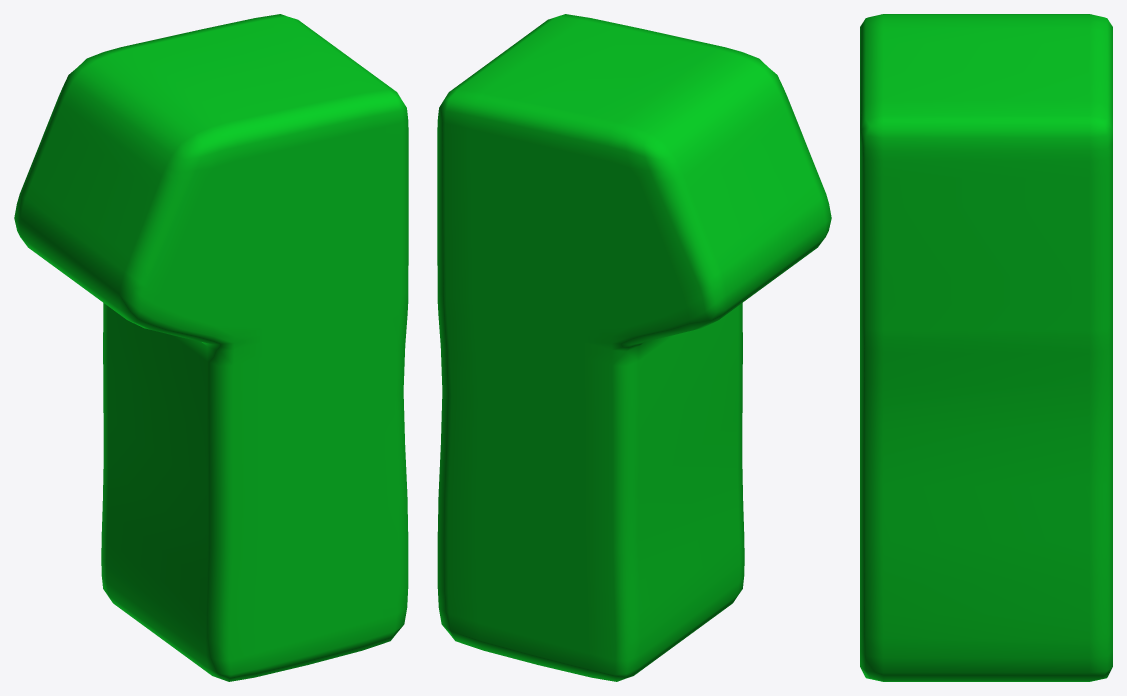
The picture shows the model from 3 angles, left to right: view 1: azimuth 30°, elevation 25°; view 2: azimuth 150°, elevation 25°; view 3: azimuth 270°, elevation 25°; orthographic projection. The views are drawn at different scales.
Visible parts, largest first — view 1: A:Mesh1_numbers_0; view 2: A:Mesh1_numbers_0; view 3: A:Mesh1_numbers_0.
Part boxes in pixels (x1,y1,x2,y2): A:Mesh1_numbers_0: [14, 14, 408, 681]; A:Mesh1_numbers_0: [437, 14, 831, 681]; A:Mesh1_numbers_0: [860, 14, 1112, 681].
Size of the model in its own units: 18.28 by 34.22 by 13.53.
